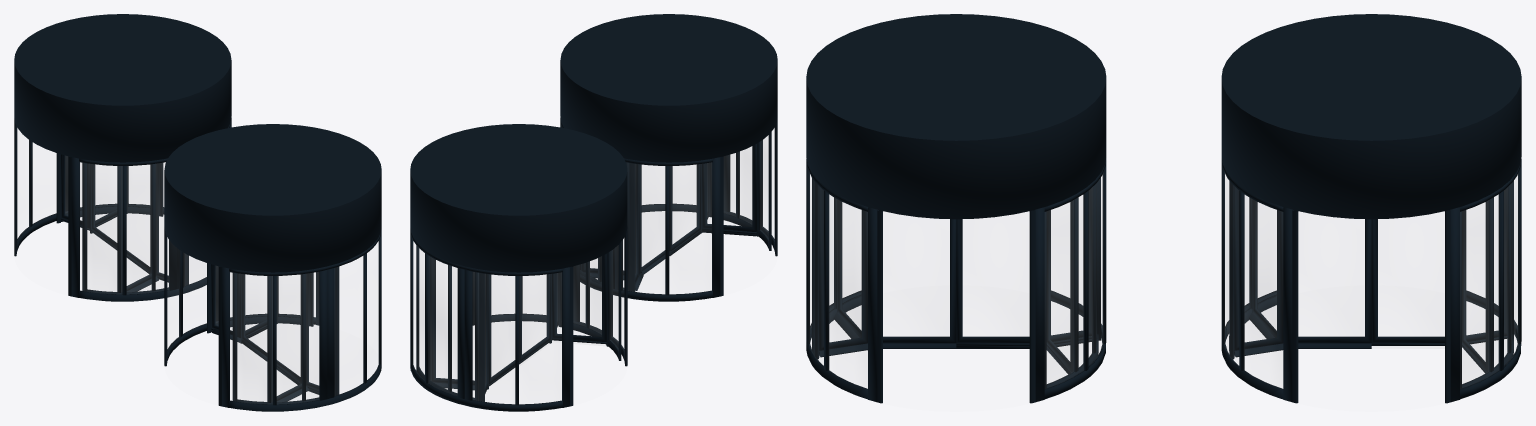
Rendered from Doors.fbx.
3 views of the same model, side by side, from view 1: azimuth 30°, elevation 25°; view 2: azimuth 150°, elevation 25°; view 3: azimuth 270°, elevation 25° (orthographic). The views are drawn at different scales.
Visible parts, largest first — view 1: Rotating Door; view 2: Rotating Door; view 3: Rotating Door.
Part boxes in pixels (x1,y1,x2,y2): Rotating Door: [14, 14, 381, 411]; Rotating Door: [410, 14, 777, 411]; Rotating Door: [806, 14, 1521, 403].
Bounding box in the file's own units: 389 × 388 × 928.
